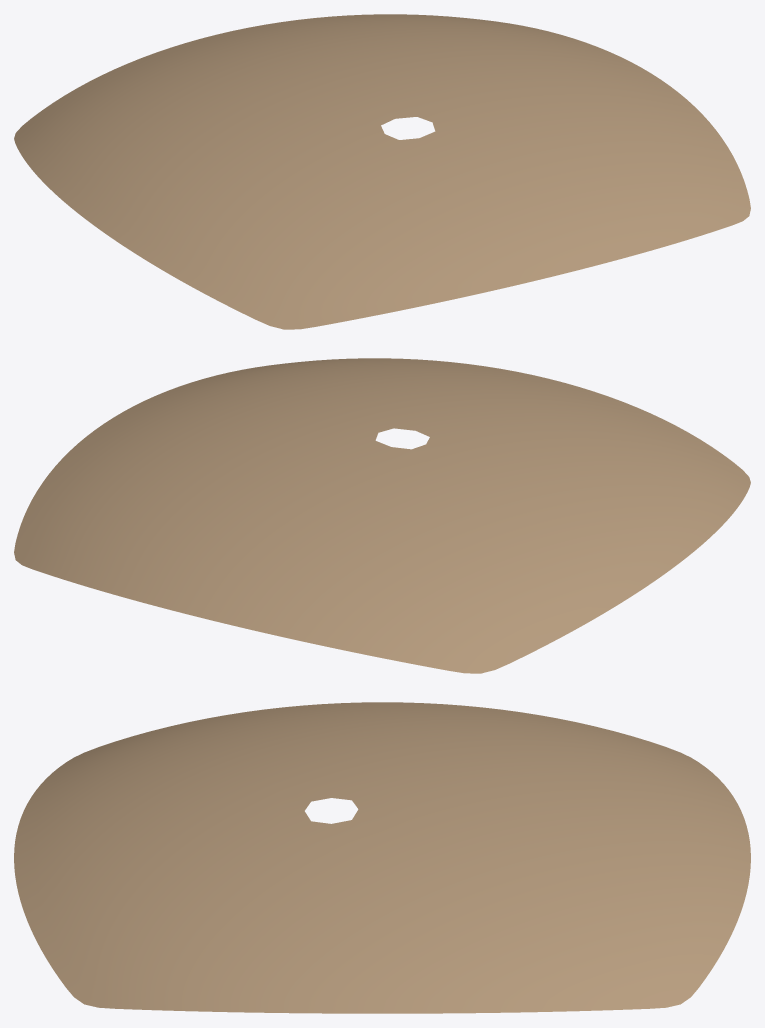
The model's file is under-water.glb.
The picture shows the model from 3 angles, top to bottom: view 1: azimuth 30°, elevation 25°; view 2: azimuth 150°, elevation 25°; view 3: azimuth 270°, elevation 25°; orthographic projection. The views are drawn at different scales.
Visible parts, largest first — view 1: under-water; view 2: under-water; view 3: under-water.
Boxes of the visible parts, bbox=[...] form: under-water: bbox=[14, 14, 750, 329]; under-water: bbox=[14, 358, 750, 673]; under-water: bbox=[14, 702, 750, 1013].
Size of the model in its own units: 175 by 18.46 by 175.
